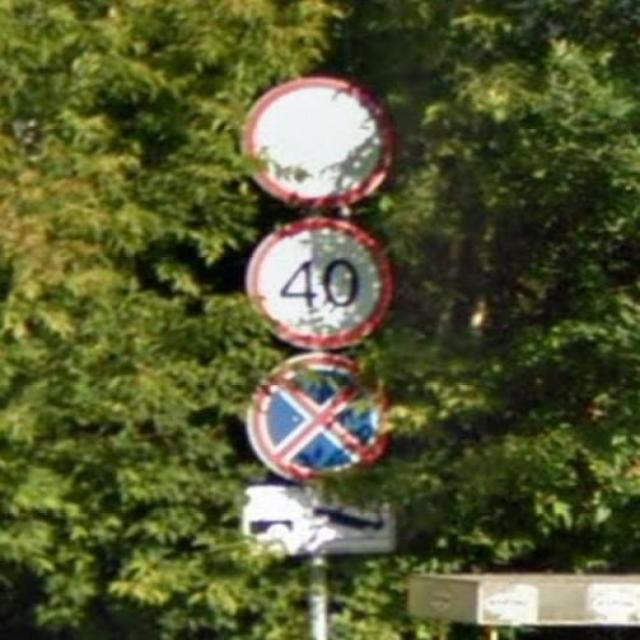traffic_sign: (247, 348, 391, 486), (246, 216, 394, 350)
